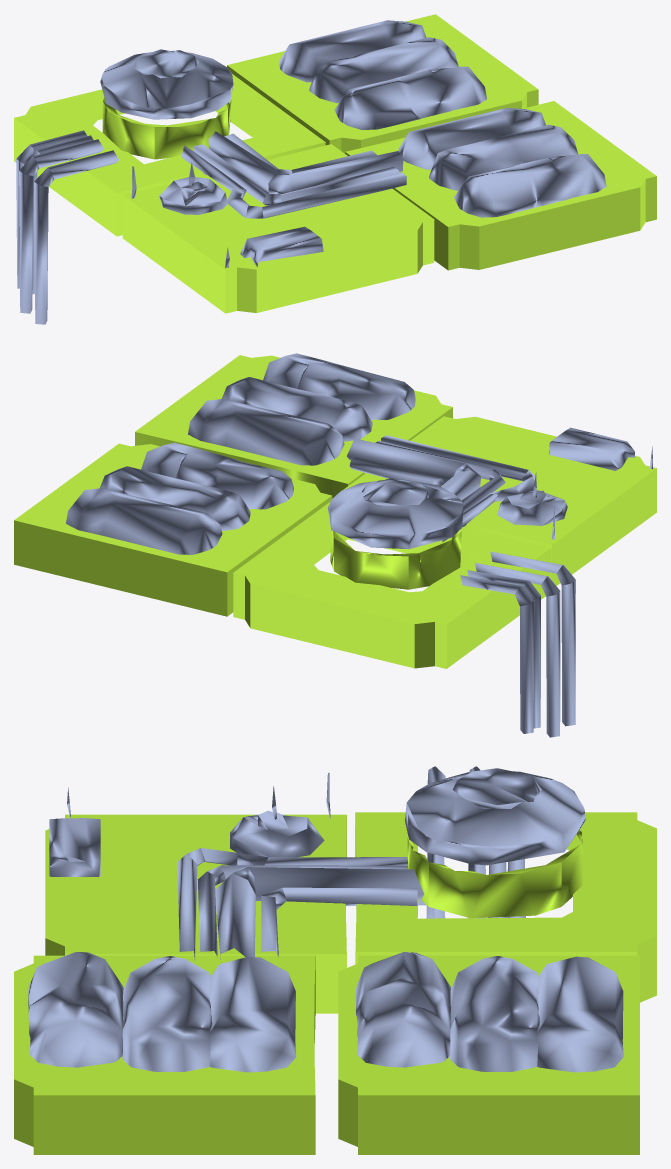
File: backdrop_top_b_lod2.glb
The picture shows the model from 3 angles, top to bottom: view 1: azimuth 30°, elevation 25°; view 2: azimuth 150°, elevation 25°; view 3: azimuth 270°, elevation 25°; orthographic projection. The views are drawn at different scales.
Bounding box in the file's own units: 128 × 55.12 × 110.
